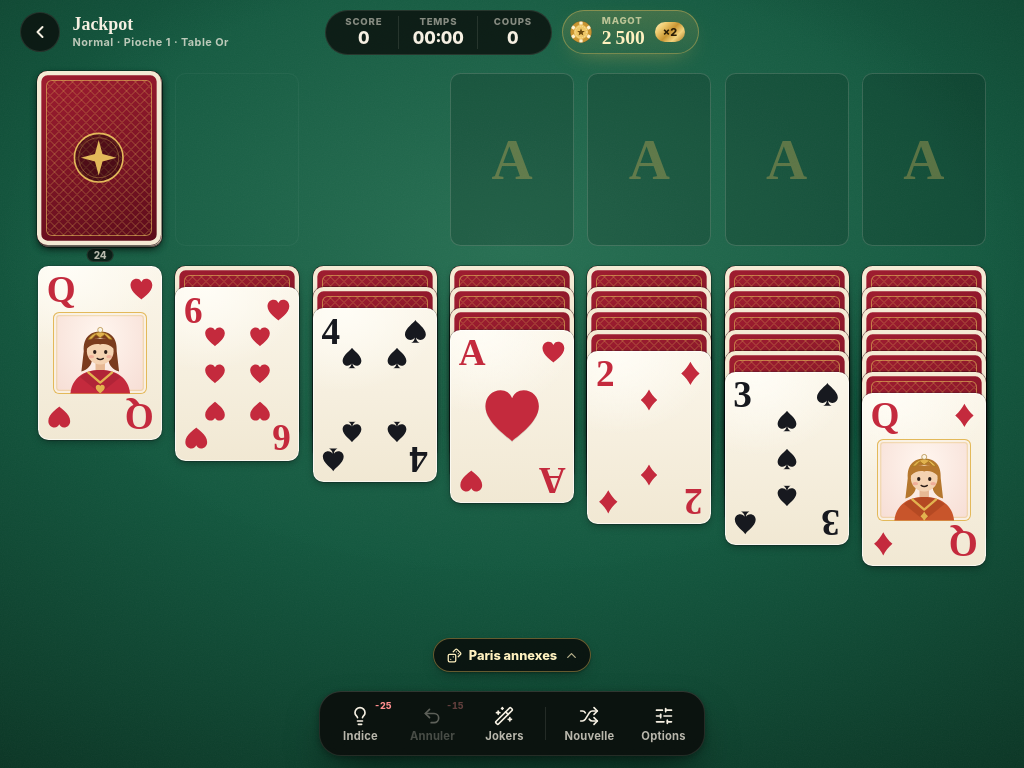
en partie › pose un pari annexe puis le verrouille au premier coup
Expected: the switch labelled "sans indice" is not shown
Click the button "Paris annexes": [512, 655] box [433,638,591,672]
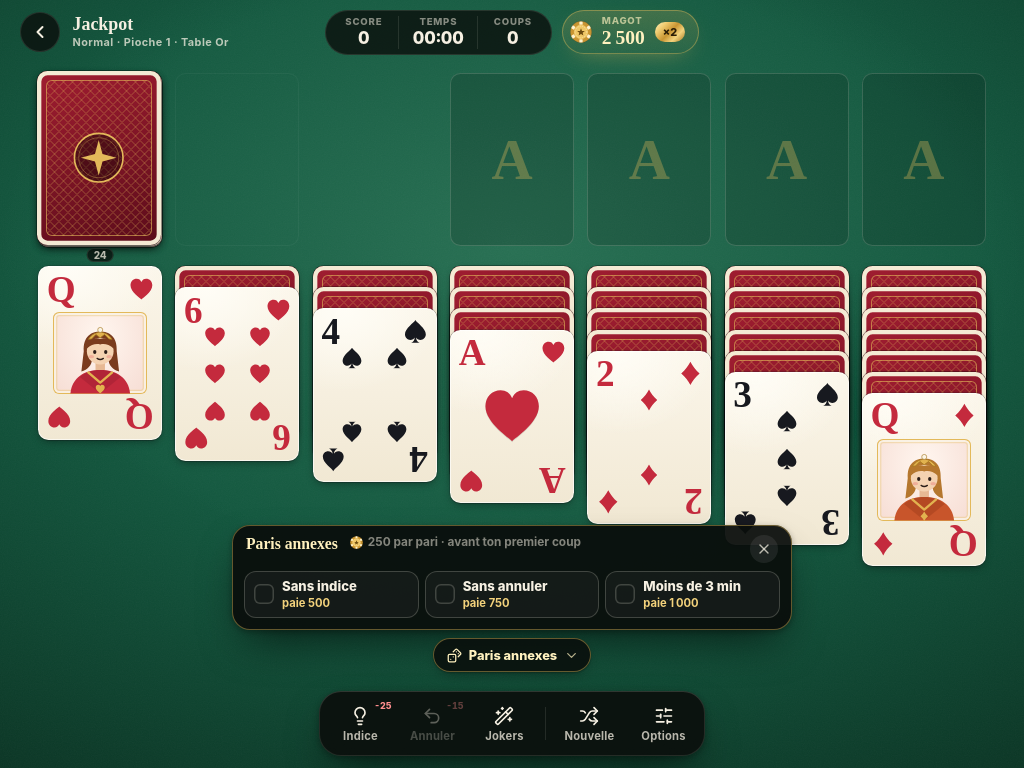
Click the switch labelled "Sans indice paie 500": [331, 594] box [244,571,419,618]
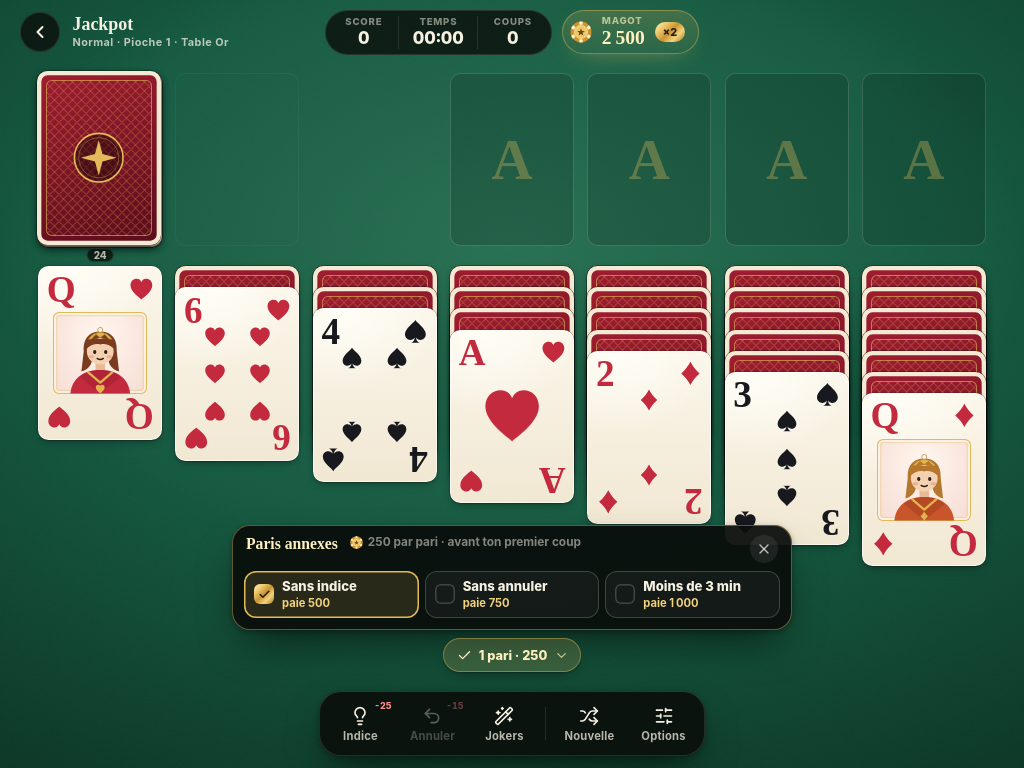
Now the button "1 pari · 250" is shown, box [443,638,581,672]
Click the button named "fermer les paris annexes": [764, 549] box [750,535,778,563]
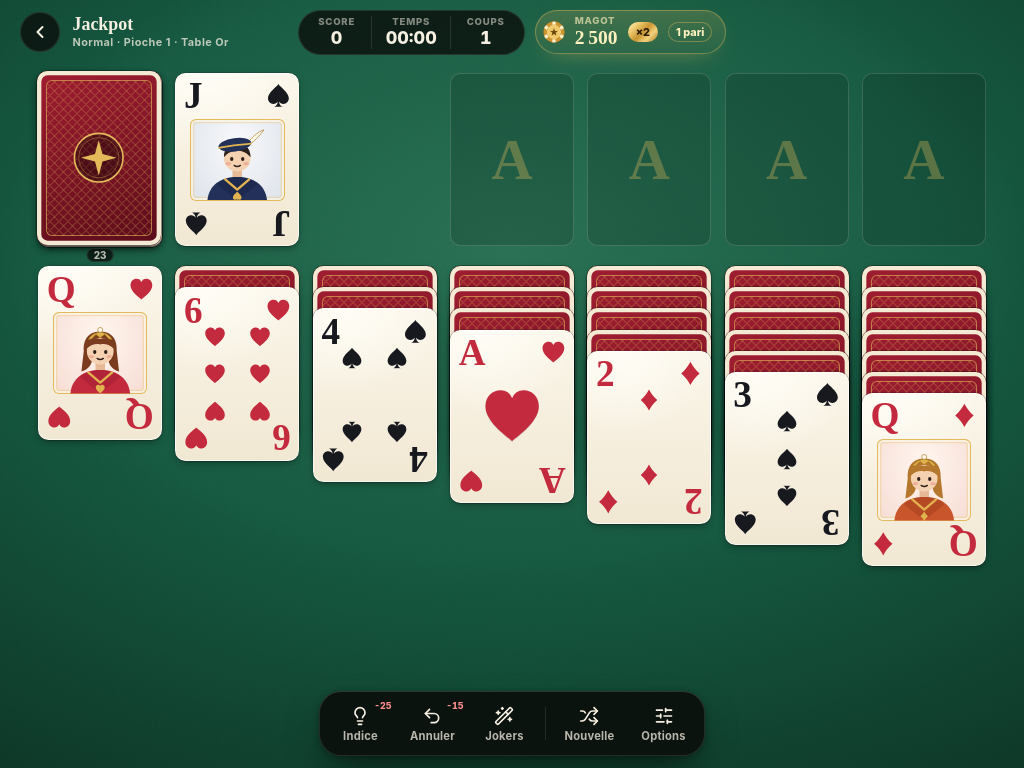
Now the text "1 pari" is shown, box [668,22,712,42]
Now the switch labelled "Sans indice" is gone
Now the button "1 pari · 250" is gone
